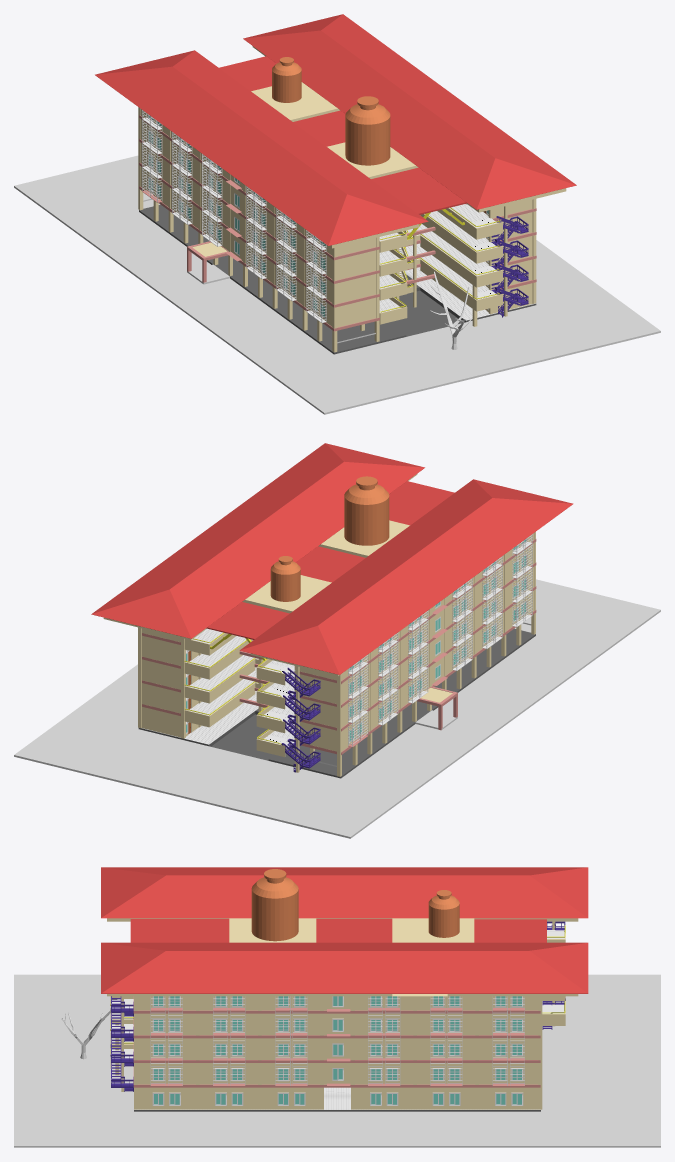
File: rusun1.fbx
3 views of the same model, one above another, from view 1: azimuth 30°, elevation 25°; view 2: azimuth 150°, elevation 25°; view 3: azimuth 270°, elevation 25° (orthographic). The views are drawn at different scales.
Parts seen in each view (by area): view 1: Cube.018, Cube.045, Cube.055, Cube.036, Cube.475, Cube.034, Cube.006, Cube.068, Cube.031, Cube.010, Cube.021, Cylinder.006 (+6 smaller); view 2: Cube.018, Cube.045, Cube.055, Cube.475, Cube.036, Cube.034, Cube.006, Cube.068, Cube.031, Cube.020, Cube.010, Cylinder.006 (+5 smaller); view 3: Cube.018, Cube.055, Cube.004, Cube.045, Cube.153, Cube.006, Cube.021, Cube.010, Cylinder.006, Cube.034, Cube.014, Cube.124 (+7 smaller).
Boxes of the visible parts, left/top/right/bottom form: Cube.018: left=14, top=155, right=660, bottom=414; Cube.045: left=95, top=50, right=428, bottom=245; Cube.055: left=243, top=14, right=576, bottom=209; Cube.036: left=140, top=108, right=376, bottom=327; Cube.475: left=142, top=110, right=326, bottom=322; Cube.034: left=139, top=204, right=536, bottom=354; Cube.006: left=138, top=107, right=536, bottom=352; Cube.068: left=379, top=208, right=502, bottom=324; Cube.031: left=379, top=204, right=497, bottom=312; Cube.010: left=219, top=56, right=466, bottom=214; Cube.021: left=251, top=46, right=566, bottom=248; Cylinder.006: left=345, top=96, right=390, bottom=165; Cube.018: left=14, top=579, right=660, bottom=838; Cube.045: left=239, top=479, right=573, bottom=674; Cube.055: left=91, top=443, right=424, bottom=638; Cube.475: left=348, top=534, right=532, bottom=747; Cube.036: left=342, top=533, right=533, bottom=751; Cube.034: left=138, top=628, right=535, bottom=778; Cube.006: left=138, top=532, right=535, bottom=776; Cube.068: left=184, top=633, right=285, bottom=757; Cube.031: left=188, top=628, right=295, bottom=748; Cube.020: left=142, top=628, right=180, bottom=737; Cube.010: left=206, top=481, right=454, bottom=639; Cylinder.006: left=344, top=476, right=389, bottom=545; Cube.018: left=14, top=974, right=660, bottom=1147; Cube.055: left=101, top=942, right=588, bottom=993; Cube.004: left=137, top=996, right=538, bottom=1109; Cube.045: left=101, top=867, right=588, bottom=918; Cube.153: left=150, top=996, right=524, bottom=1086; Cube.006: left=134, top=996, right=542, bottom=1109; Cube.021: left=107, top=918, right=578, bottom=996; Cube.010: left=130, top=919, right=546, bottom=942; Cylinder.006: left=251, top=869, right=298, bottom=941; Cube.034: left=134, top=1087, right=540, bottom=1111; Cube.014: left=316, top=919, right=392, bottom=942; Cube.124: left=324, top=996, right=350, bottom=1084.
Size of the model in its own units: 4863 by 2502 by 7772.
15 materials, 1 textured.
